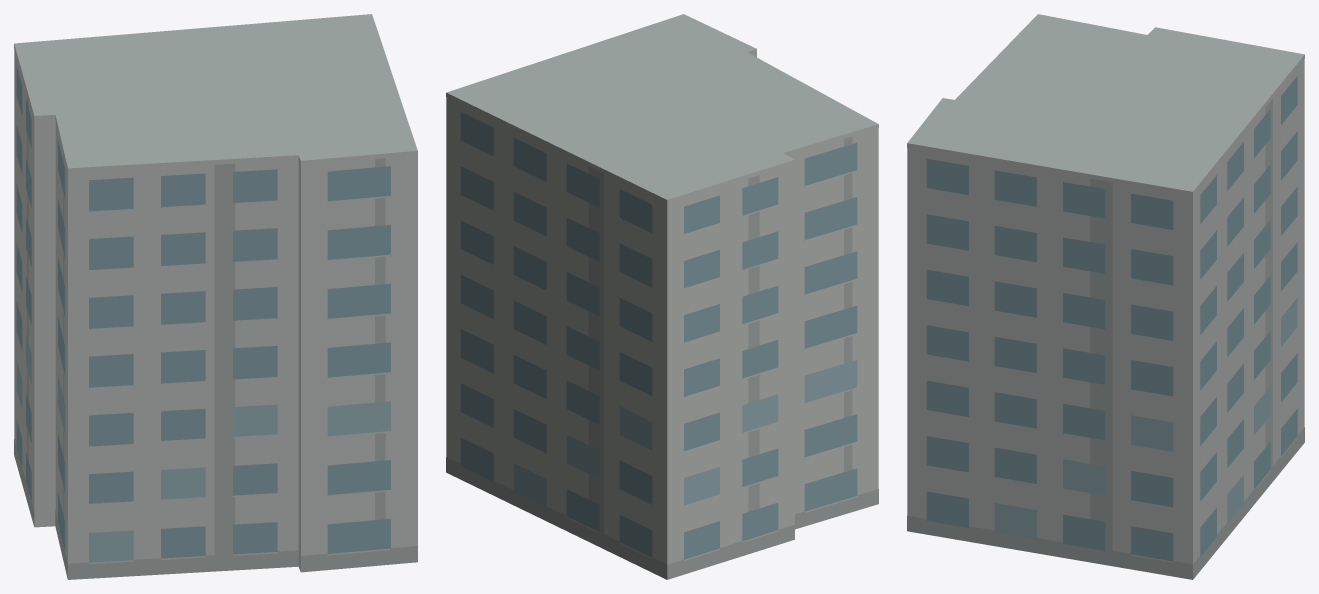
The model's file is survey-upis-33008803.glb.
3 renders of one model, left to right at view 1: azimuth 30°, elevation 25°; view 2: azimuth 150°, elevation 25°; view 3: azimuth 270°, elevation 25°, orthographic. The views are drawn at different scales.
Parts seen in each view (by area): view 1: survey-upis-33008803.tmp; view 2: survey-upis-33008803.tmp; view 3: survey-upis-33008803.tmp.
Part boxes in pixels (<box>): survey-upis-33008803.tmp: <box>14,14,417,579</box>; survey-upis-33008803.tmp: <box>446,14,878,579</box>; survey-upis-33008803.tmp: <box>907,14,1304,579</box>.
Size of the model in its own units: 20.99 by 21.35 by 19.84.
